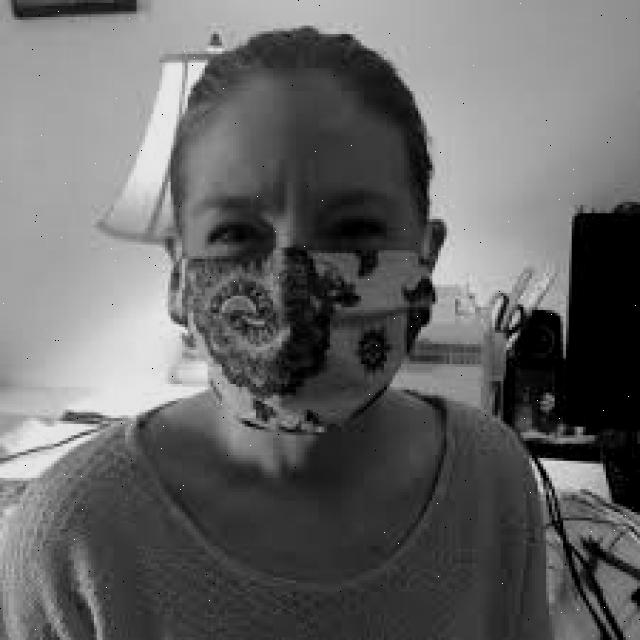fake: (163, 250, 441, 439)
real: (182, 71, 422, 445)
